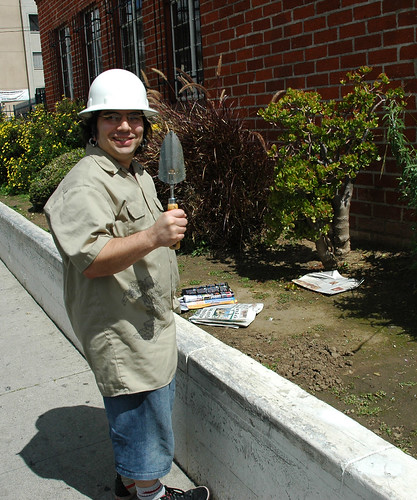person hardhat: (42, 70, 194, 500)
